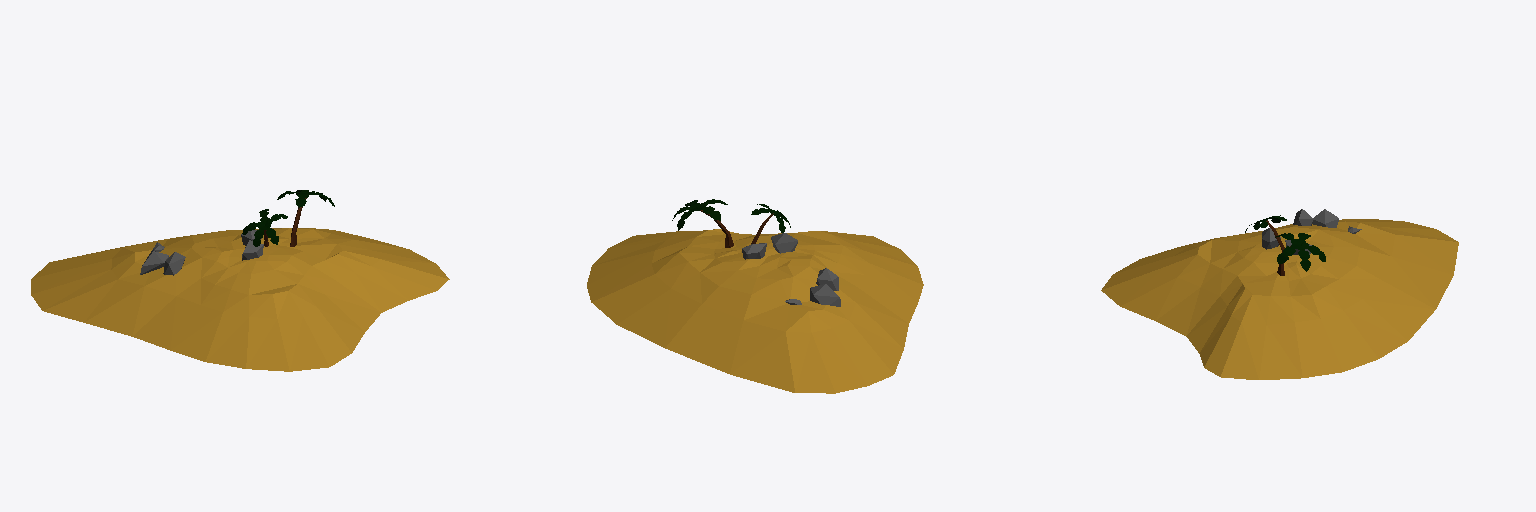
The model's file is scenery_island_2.obj.
The picture shows the model from 3 angles: view 1: azimuth 30°, elevation 25°; view 2: azimuth 150°, elevation 25°; view 3: azimuth 270°, elevation 25°; orthographic projection.
Parts seen in each view (by area): view 1: Circle.007_Circle.025, Circle.011_Circle.032; view 2: Circle.007_Circle.025, Circle.010_Circle.029; view 3: Circle.007_Circle.025, Circle.010_Circle.029.
Boxes of the visible parts, <box> form: Circle.007_Circle.025: <box>31,228,449,371</box>; Circle.011_Circle.032: <box>242,209,287,246</box>; Circle.007_Circle.025: <box>587,229,923,393</box>; Circle.010_Circle.029: <box>672,199,727,230</box>; Circle.007_Circle.025: <box>1101,219,1458,379</box>; Circle.010_Circle.029: <box>1275,233,1325,271</box>.
Size of the model in its own units: 171 by 43.81 by 156.